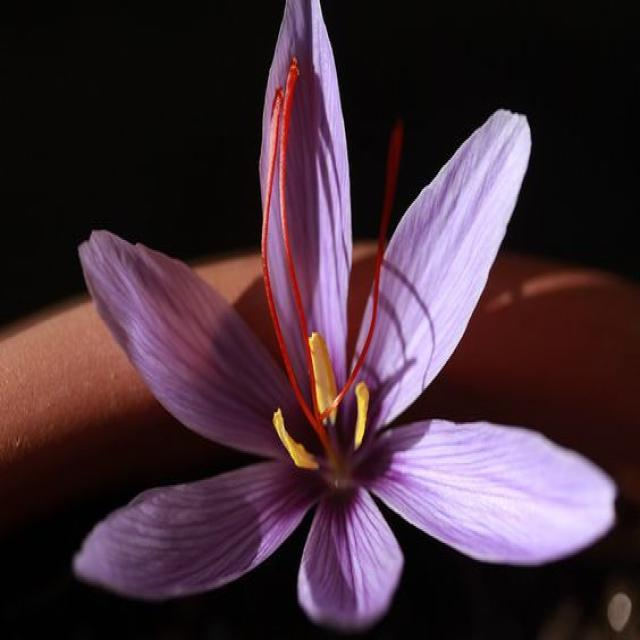Flower: (75, 0, 618, 628)
stigma: (260, 88, 335, 453), (324, 122, 408, 418), (277, 57, 326, 420)
